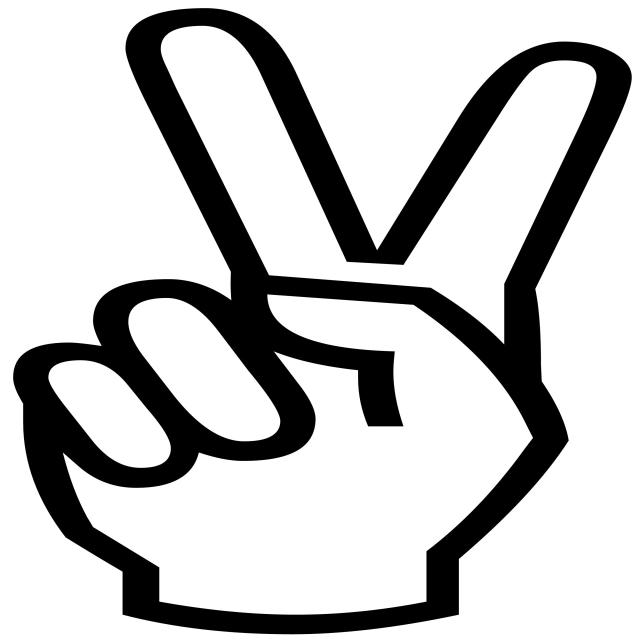Victory: (11, 5, 640, 632)
